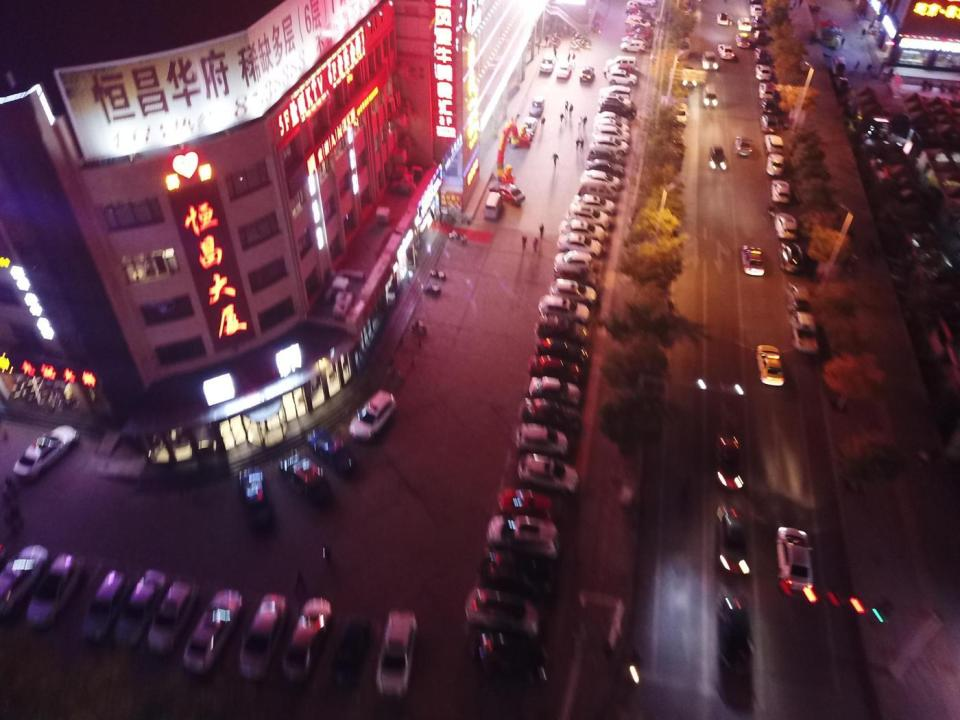car: (183, 588, 241, 672), (24, 551, 84, 631), (280, 596, 332, 686), (0, 544, 48, 629), (239, 592, 285, 679), (113, 569, 164, 645), (375, 609, 417, 698), (12, 424, 78, 480), (148, 576, 196, 652), (466, 586, 537, 637), (481, 548, 555, 596), (83, 569, 130, 641), (484, 515, 559, 559), (475, 631, 547, 676), (332, 612, 372, 686), (277, 448, 329, 504), (719, 596, 755, 674), (304, 428, 358, 479), (517, 452, 578, 496), (238, 465, 275, 533), (777, 527, 813, 595), (717, 504, 751, 575), (349, 390, 396, 440), (519, 397, 580, 433), (498, 486, 553, 521), (515, 423, 569, 457), (714, 434, 746, 491), (529, 376, 581, 406), (536, 315, 588, 345), (528, 355, 581, 383), (536, 336, 589, 363), (538, 295, 592, 321), (555, 250, 600, 277), (559, 220, 608, 244), (553, 279, 596, 306), (552, 265, 596, 291), (757, 344, 784, 386), (792, 311, 818, 353), (559, 235, 603, 257), (568, 206, 610, 229), (488, 181, 524, 206), (574, 195, 614, 217), (581, 170, 620, 192), (741, 244, 764, 276), (597, 101, 635, 120), (787, 282, 811, 312), (780, 243, 803, 274), (591, 136, 628, 155), (586, 160, 624, 178), (588, 147, 623, 166), (600, 93, 634, 110), (864, 138, 902, 153), (594, 126, 629, 142), (597, 118, 628, 136), (776, 212, 796, 239), (596, 111, 627, 128), (607, 71, 637, 87), (772, 180, 790, 204), (710, 146, 728, 169), (767, 154, 785, 176), (520, 117, 537, 140), (626, 14, 650, 30), (600, 85, 631, 97), (605, 63, 633, 76), (864, 126, 892, 139), (665, 133, 684, 152), (765, 134, 783, 154), (670, 103, 687, 124), (540, 52, 556, 74), (681, 67, 697, 89), (734, 136, 751, 156), (627, 35, 650, 48), (622, 40, 644, 53), (628, 29, 654, 40), (674, 38, 689, 57), (762, 114, 777, 132), (529, 98, 544, 115), (820, 36, 838, 50), (718, 44, 734, 59), (758, 82, 773, 98), (821, 28, 840, 40), (736, 32, 750, 48), (756, 48, 770, 64), (628, 2, 646, 14), (756, 65, 770, 80), (820, 19, 839, 30), (580, 66, 593, 82), (760, 99, 777, 111), (632, 0, 657, 8), (557, 64, 571, 78), (737, 17, 751, 31), (679, 1, 692, 16), (754, 30, 768, 43), (836, 76, 849, 90), (751, 3, 762, 16), (717, 12, 728, 24), (752, 17, 764, 28)
van: (581, 182, 616, 202), (484, 192, 502, 219), (606, 56, 636, 69), (704, 82, 717, 106), (702, 51, 717, 69), (832, 55, 845, 74)
